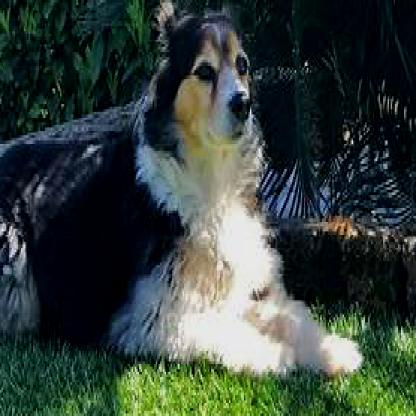dog: (0, 0, 368, 382)
